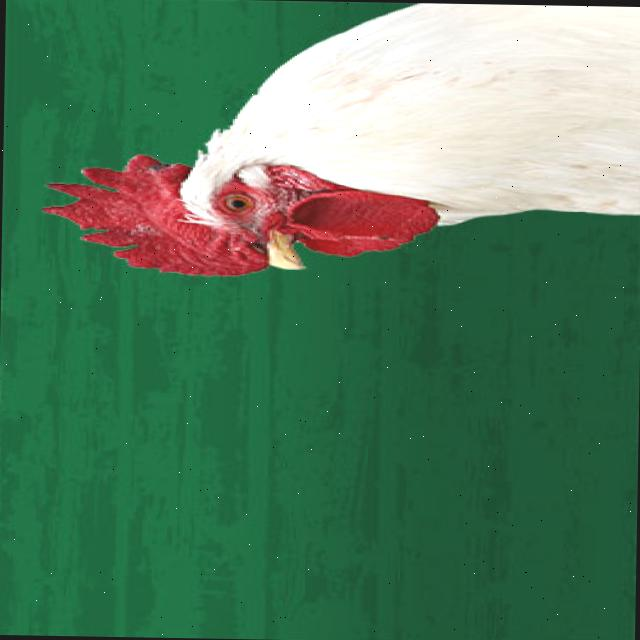Healthy: (36, 0, 640, 283)
